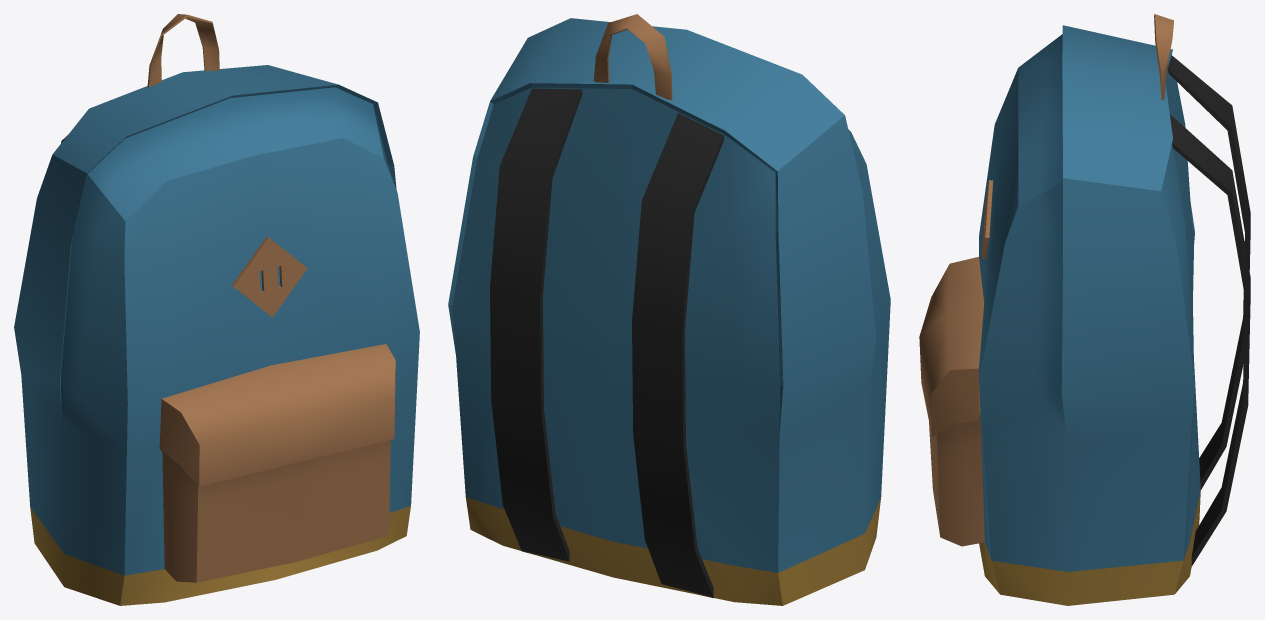
File: Bag_Textures.FBX
The picture shows the model from 3 angles, left to right: view 1: azimuth 30°, elevation 25°; view 2: azimuth 150°, elevation 25°; view 3: azimuth 270°, elevation 25°; orthographic projection. The views are drawn at different scales.
Parts seen in each view (by area): view 1: Box001; view 2: Box001; view 3: Box001.
Part boxes in pixels (x1=…): Box001: x1=14, y1=14, x2=419, y2=605; Box001: x1=448, y1=14, x2=890, y2=605; Box001: x1=919, y1=14, x2=1250, y2=605.
Bounding box in the file's own units: 15.64 × 21.61 × 12.72.
1 material, 1 textured.
